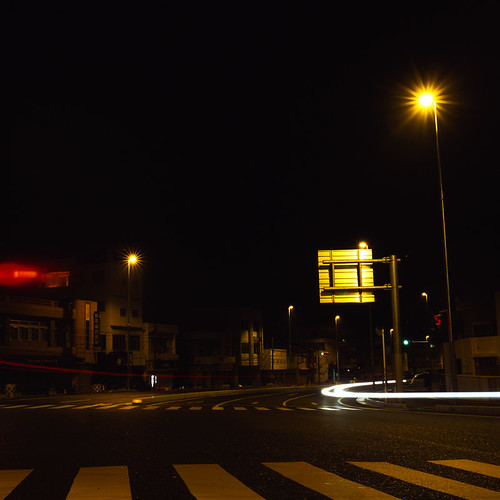building: (89, 278, 184, 412), (1, 274, 94, 408)
crosswalk: (1, 451, 496, 500), (1, 396, 404, 417)
